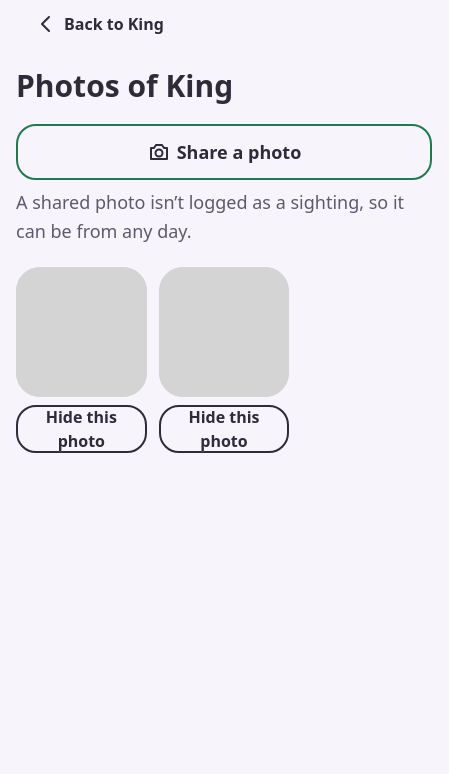
Test: PhotosPage — admin › says the entry stays when hiding a photo on an entry
Step 1. Click the 2nd button "Hide this photo" → x=224, y=429, box [159, 405, 289, 453]
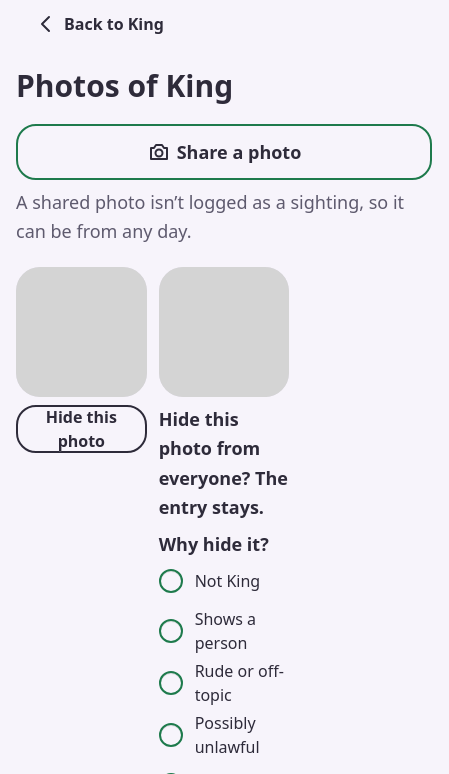
Expected: the text "Hide this photo from everyone? The entry stays." is shown, [159, 405, 289, 522]
